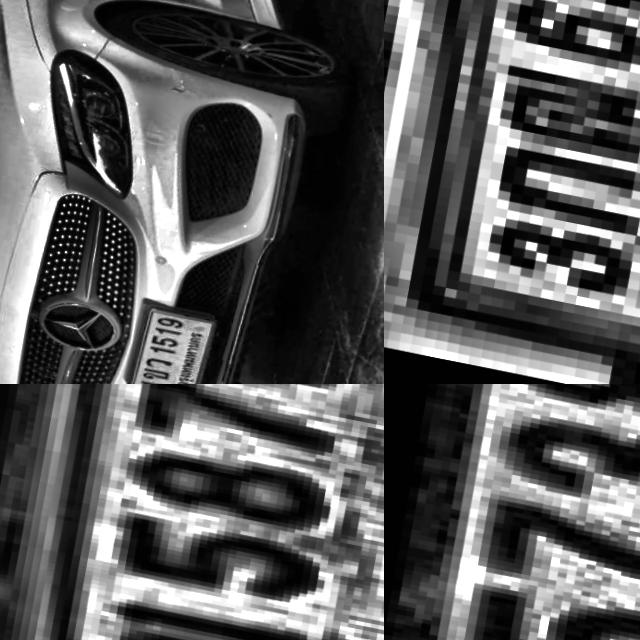license-plate: (384, 0, 640, 384), (0, 384, 384, 640), (384, 384, 640, 640), (118, 304, 217, 384)
